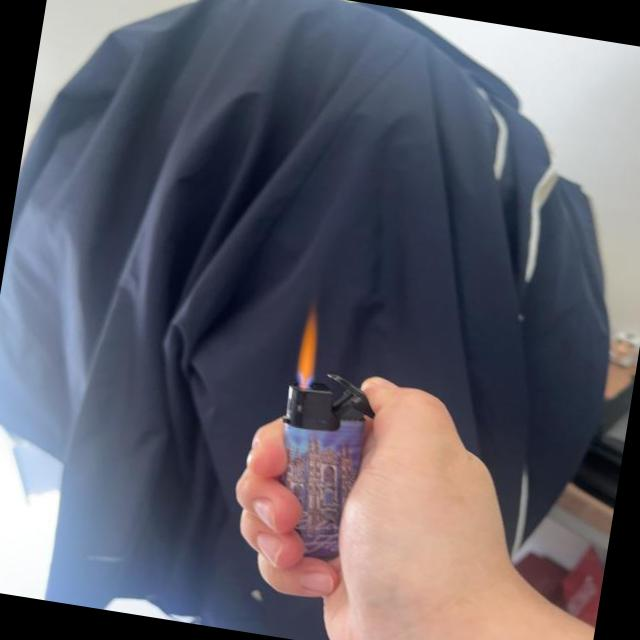Fire: (288, 309, 328, 388)
